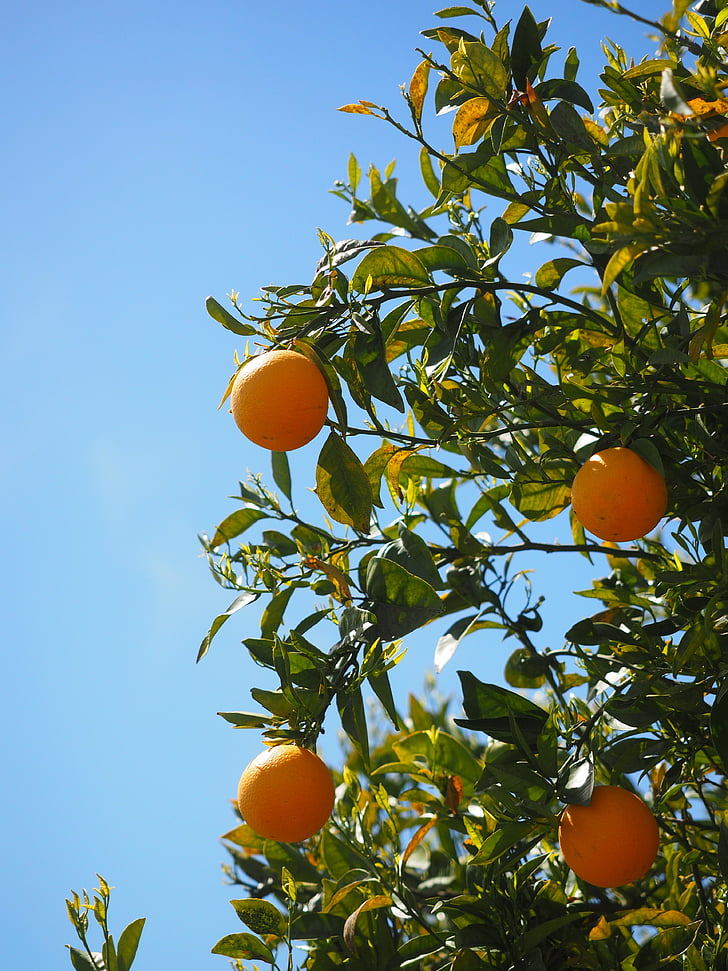orange: (236, 741, 336, 847), (559, 787, 659, 890), (230, 346, 327, 452), (570, 445, 672, 542)
